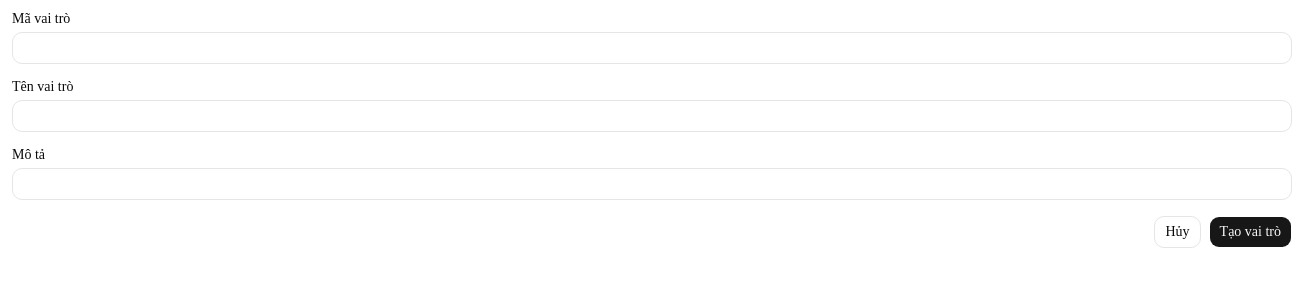
it: RoleCreateForm (T052.03C §4) › validates code against the backend regex client-side (lowercase/digits/underscore only)
This screenshot has width=1304, height=291.
Step 1. Type "Sales-Staff!" into the field labelled "Mã vai trò" → (652,48), box [12, 32, 1292, 64]
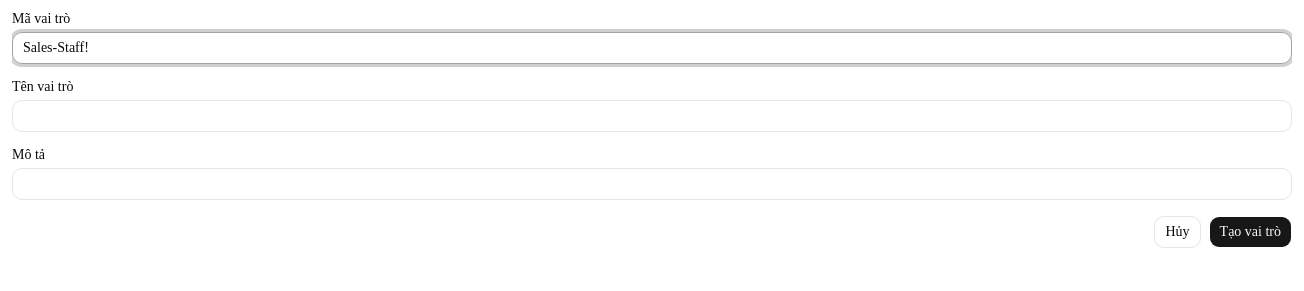
Step 2. Type "Nhân viên bán hàng" into the field labelled "Tên vai trò" → (652,116), box [12, 100, 1292, 132]
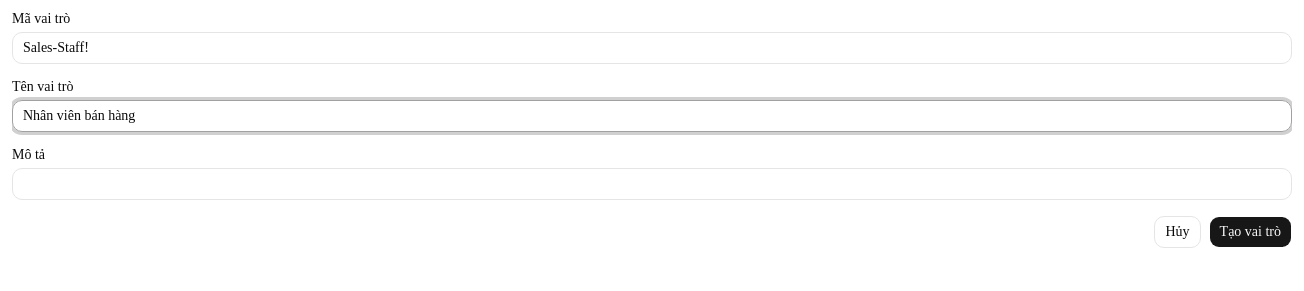
Step 3. Click the button "Tạo vai trò" → (1250,232), box [1209, 216, 1292, 248]
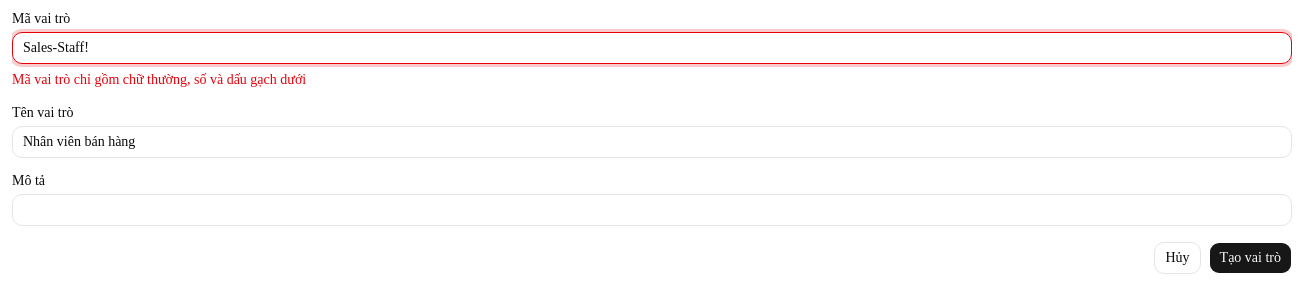
Expected: the text "Mã vai trò chỉ gồm chữ thường, số và dấu gạch dưới" is shown, [12, 72, 306, 87]
